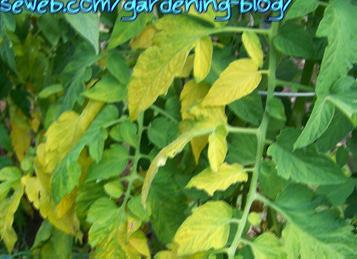Tomato leaf yellow virus: (128, 15, 208, 114), (38, 97, 106, 210), (169, 193, 235, 259), (202, 50, 262, 118), (84, 203, 153, 259), (285, 216, 357, 259)
